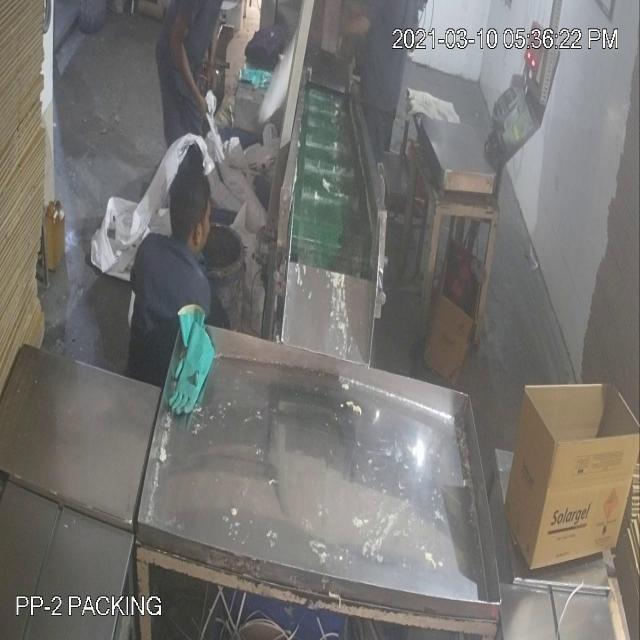No_Gloves: (163, 6, 214, 120)
